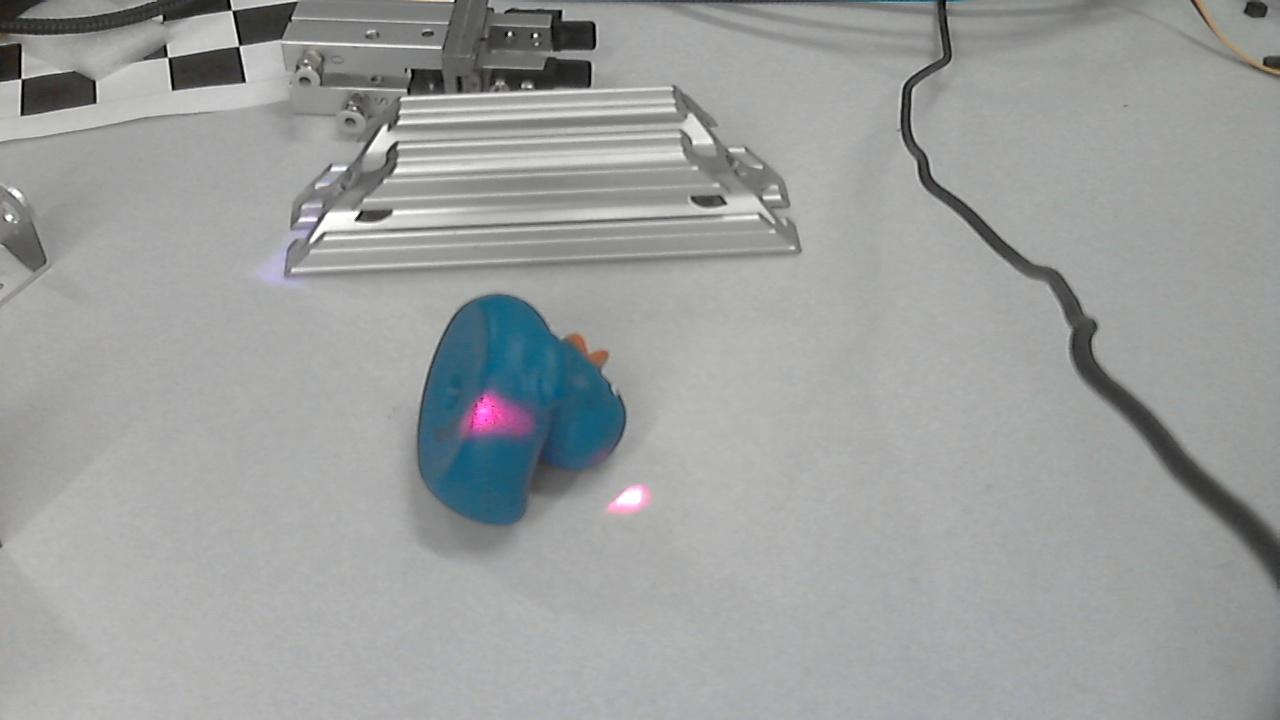Object rubber duck - Material rubber -Color blue - Pdfname BWuUnwTLudUE: (458, 393, 547, 457)
